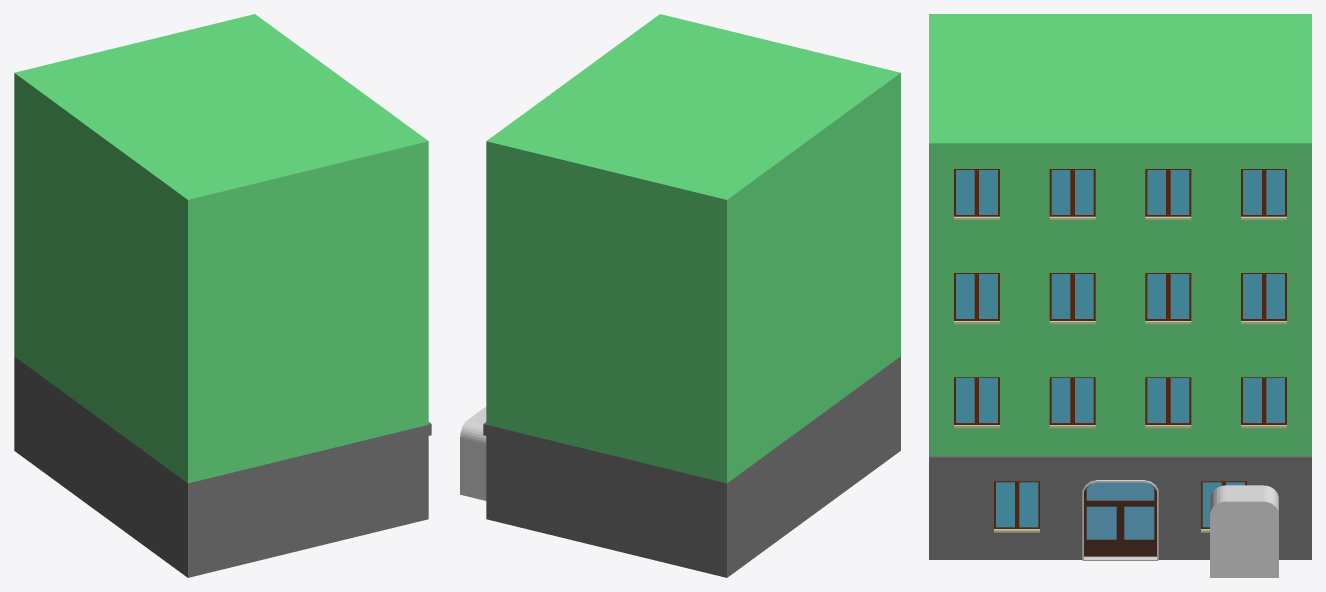
The model's file is Budynek01.fbx.
The picture shows the model from 3 angles, left to right: view 1: azimuth 30°, elevation 25°; view 2: azimuth 150°, elevation 25°; view 3: azimuth 270°, elevation 25°; orthographic projection. The views are drawn at different scales.
Parts seen in each view (by area): view 1: Plane; view 2: Plane, Cylinder.001; view 3: Plane, Cylinder.001.
Part boxes in pixels (left/top/right/bottom): Plane: left=14, top=14, right=431, bottom=577; Plane: left=483, top=14, right=900, bottom=577; Cylinder.001: left=460, top=407, right=486, bottom=500; Plane: left=929, top=14, right=1311, bottom=560; Cylinder.001: left=1210, top=485, right=1278, bottom=577.
Bounding box in the file's own units: 936 × 1200 × 1000.
